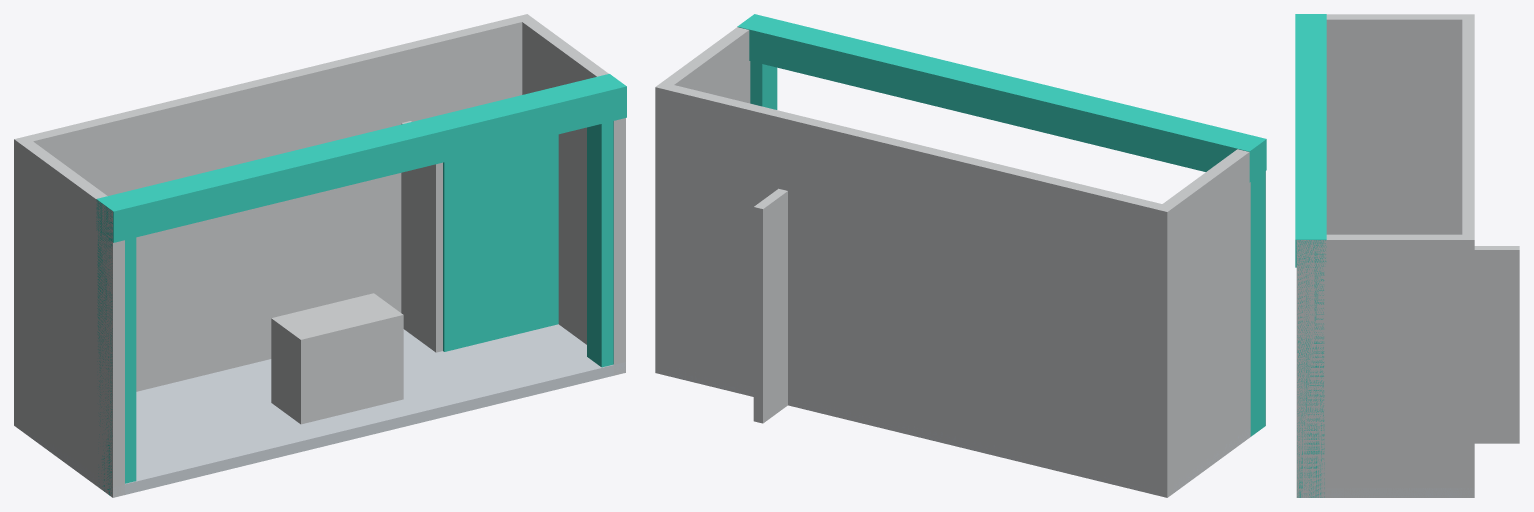
3 renders of one model, left to right at view 1: azimuth 30°, elevation 25°; view 2: azimuth 150°, elevation 25°; view 3: azimuth 270°, elevation 25°, orthographic. The views are drawn at different scales.
Visible parts, largest first — view 1: Exhibition Booth Concept; view 2: Exhibition Booth Concept; view 3: Exhibition Booth Concept.
Boxes of the visible parts, x1,y1,x2,y2 form: Exhibition Booth Concept: (14,14,626,497); Exhibition Booth Concept: (655,14,1266,497); Exhibition Booth Concept: (1295,14,1519,497).
Size of the model in its own units: 6 by 3.2 by 2.52.
